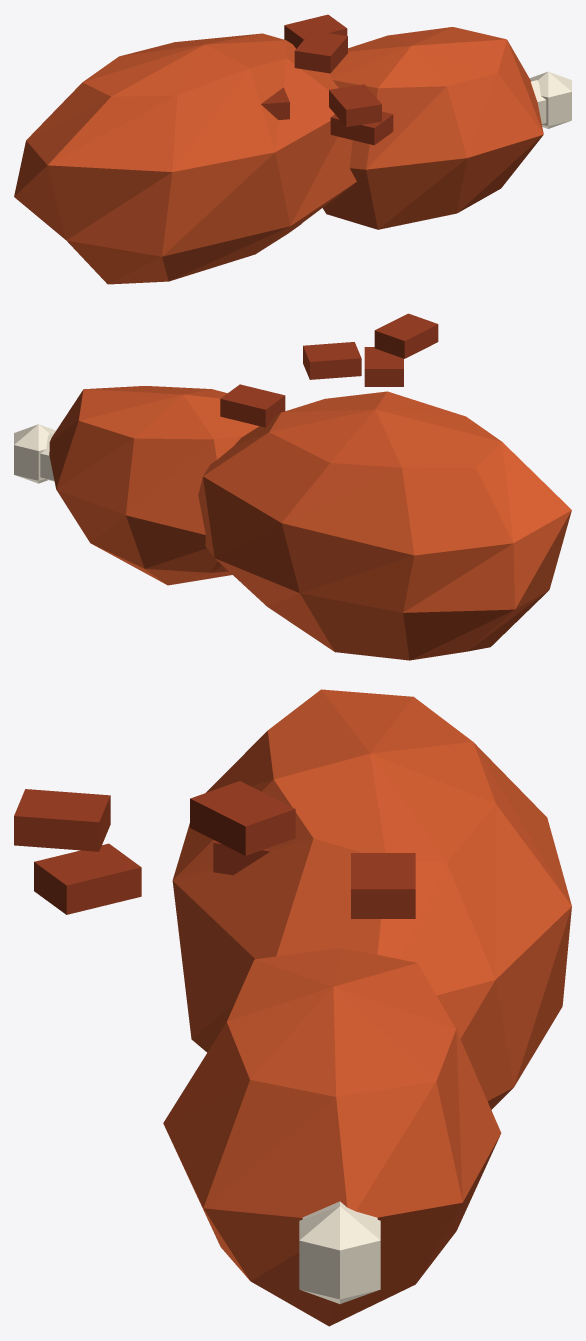
Rendered from food_wing.glb.
3 views of the same model, one above another, from view 1: azimuth 30°, elevation 25°; view 2: azimuth 150°, elevation 25°; view 3: azimuth 270°, elevation 25° (orthographic). The views are drawn at different scales.
Visible parts, largest first — view 1: food_wing; view 2: food_wing; view 3: food_wing.
Boxes of the visible parts, x1,y1,x2,y2 form: food_wing: (14, 14, 571, 284); food_wing: (14, 313, 571, 660); food_wing: (14, 689, 571, 1326).
Size of the model in its own units: 0.0968 by 0.0405 by 0.0516.
